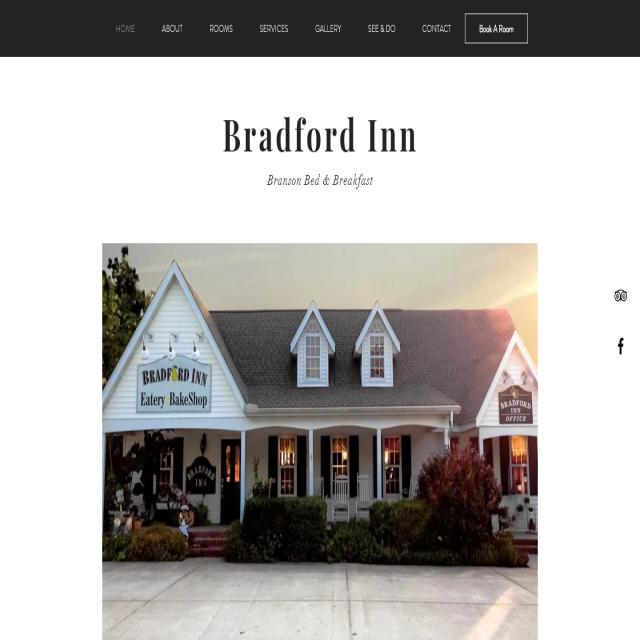button: (465, 15, 528, 44), (250, 11, 298, 44), (359, 11, 400, 49), (152, 12, 191, 45), (308, 11, 346, 44), (414, 13, 452, 46), (204, 11, 239, 45), (112, 12, 139, 44), (615, 330, 628, 361), (610, 289, 632, 307)
heading: (221, 110, 418, 158)
image: (101, 240, 537, 640)
text: (266, 169, 376, 192)
